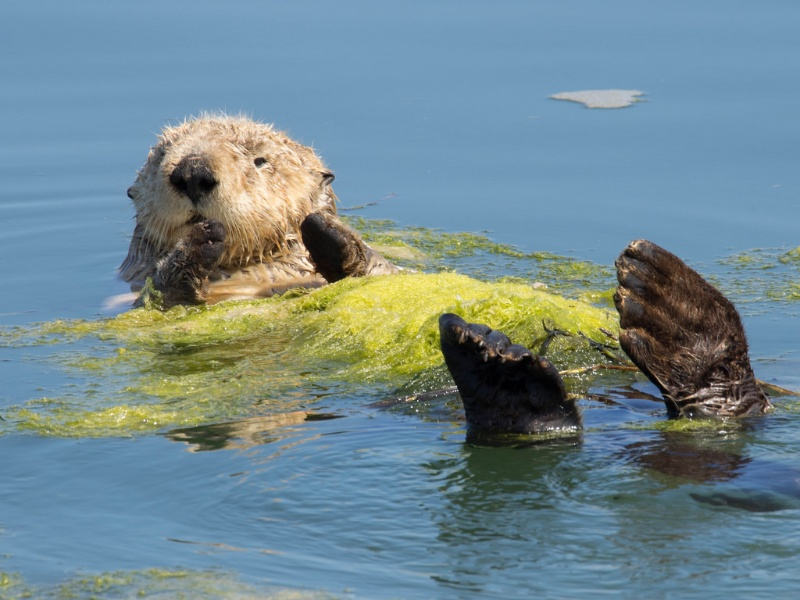minkish: (113, 109, 796, 517)
